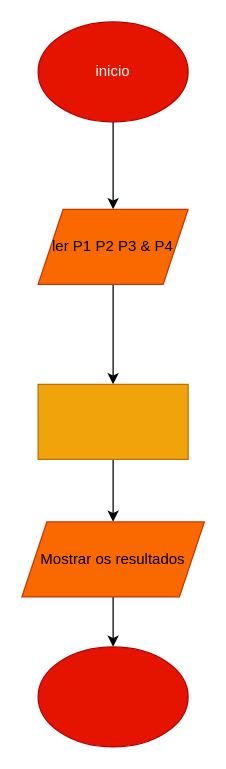
Some shapes in this 226 by 769 pixel diagram are drawn without their labels. Each missing label, with the box of its shape:
fim: (37, 646, 188, 747)
realizar o seguinte calculo Media= (P1+P2+P3+P4)/4: (37, 383, 188, 459)
